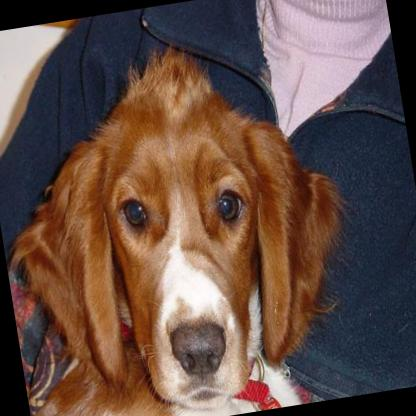Welsh_springer_spaniel: (0, 43, 359, 416)
